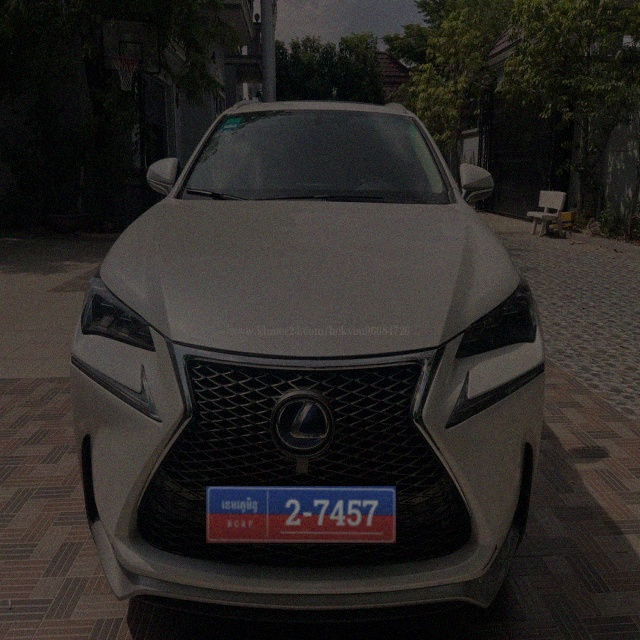Plate Number: (206, 486, 396, 544)
